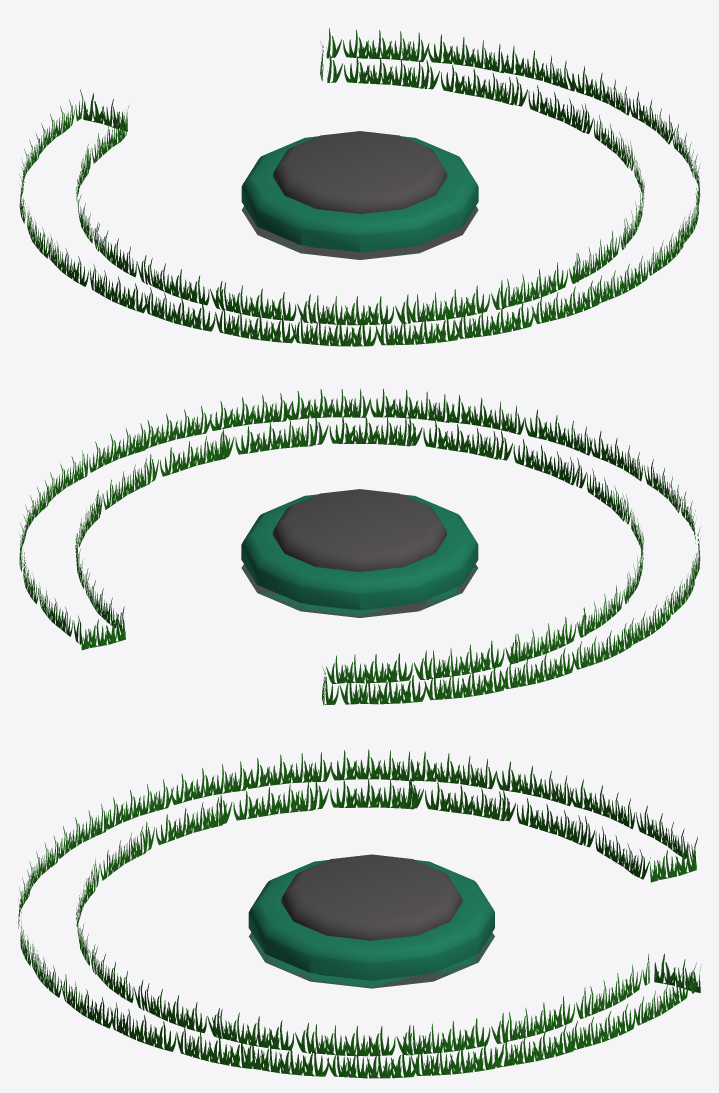
The model's file is Grass_V4.fbx.
3 views of the same model, one above another, from view 1: azimuth 30°, elevation 25°; view 2: azimuth 150°, elevation 25°; view 3: azimuth 270°, elevation 25° (orthographic). The views are drawn at different scales.
Parts seen in each view (by area): view 1: Cylinder.003, Plane.013, Plane.015, Plane.032, Plane.016, Plane.029, Plane.033, Plane.006, Plane.005, Plane.004, Plane.007, Plane.014 (+18 smaller); view 2: Cylinder.003, Plane.024, Plane.030, Plane.037, Plane.031, Plane.028, Plane.036, Plane.025, Plane.011, Plane.012, Plane.026, Plane.010 (+18 smaller); view 3: Cylinder.003, Plane.034, Plane.027, Plane.038, Plane.035, Plane.021, Plane.026, Plane.020, Plane.018, Plane.002, Plane.017, Plane.019 (+25 smaller).
Part boxes in pixels (x1,y1,x2,y2): Cylinder.003: (241, 131, 478, 259); Plane.013: (326, 28, 429, 62); Plane.015: (327, 54, 429, 88); Plane.032: (307, 294, 410, 325); Plane.016: (424, 60, 518, 105); Plane.029: (408, 280, 504, 322); Plane.033: (216, 282, 312, 323); Plane.006: (291, 316, 376, 346); Plane.005: (375, 313, 460, 345); Plane.004: (215, 306, 295, 343); Plane.007: (454, 301, 533, 338); Plane.014: (428, 34, 508, 73); Cylinder.003: (241, 489, 478, 617); Plane.024: (324, 675, 425, 704); Plane.030: (313, 416, 415, 446); Plane.037: (326, 650, 428, 683); Plane.031: (221, 418, 318, 458); Plane.028: (407, 416, 503, 459); Plane.036: (424, 634, 518, 678); Plane.025: (424, 665, 506, 700); Plane.011: (370, 388, 454, 422); Plane.012: (285, 389, 370, 420); Plane.026: (149, 431, 229, 482); Plane.010: (210, 393, 291, 430); Cylinder.003: (248, 854, 494, 988); Plane.034: (313, 779, 420, 809); Plane.027: (305, 1024, 412, 1056); Plane.038: (409, 778, 509, 821); Plane.035: (218, 782, 318, 824); Plane.021: (403, 1012, 505, 1054); Plane.026: (212, 1009, 310, 1053); Plane.020: (326, 1048, 416, 1078); Plane.018: (411, 1041, 497, 1075); Plane.002: (330, 749, 419, 781); Plane.017: (494, 1025, 575, 1067); Plane.019: (243, 1040, 328, 1076).
Size of the model in its own units: 1049 by 80.89 by 1008.
